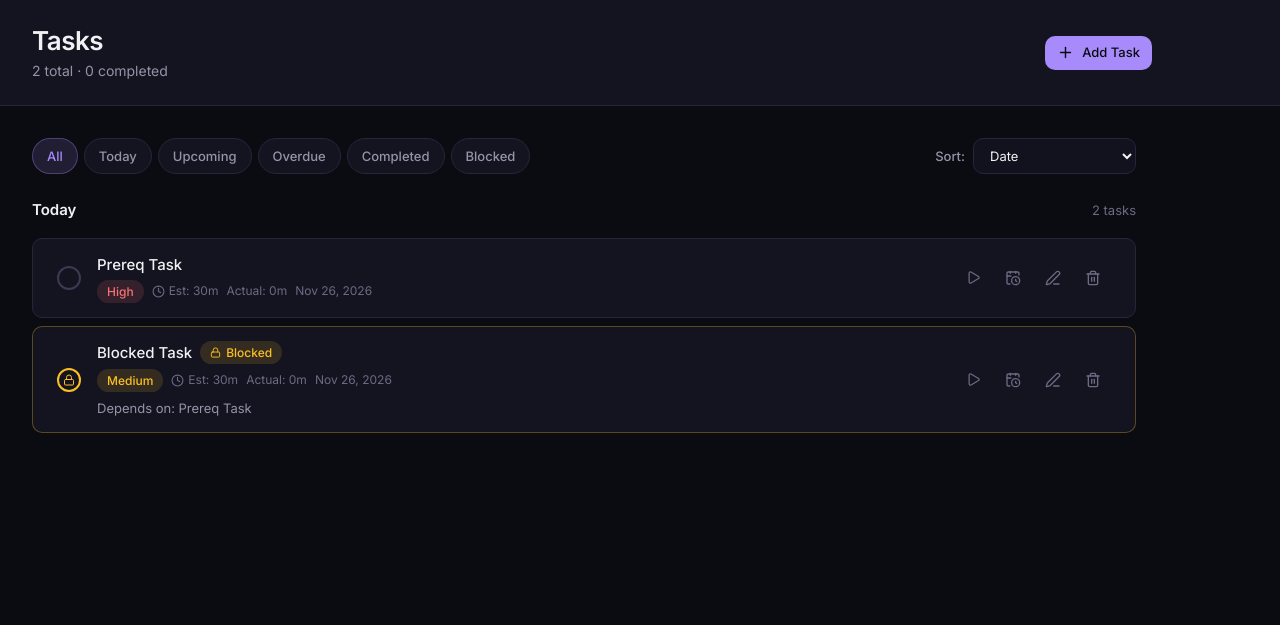
Test case: Stage 2 UI Integration › 36-37. Tasks page supports timer controls and enforces dependency blocking
The width and height of the screenshot is (1280, 625).
expect the text "Blocked" is shown: met, box [200, 341, 282, 364]
// Start timer on Prereq Task
Click the button named "Start timer for Prereq Task".
click(973, 278)  # box [955, 260, 991, 296]
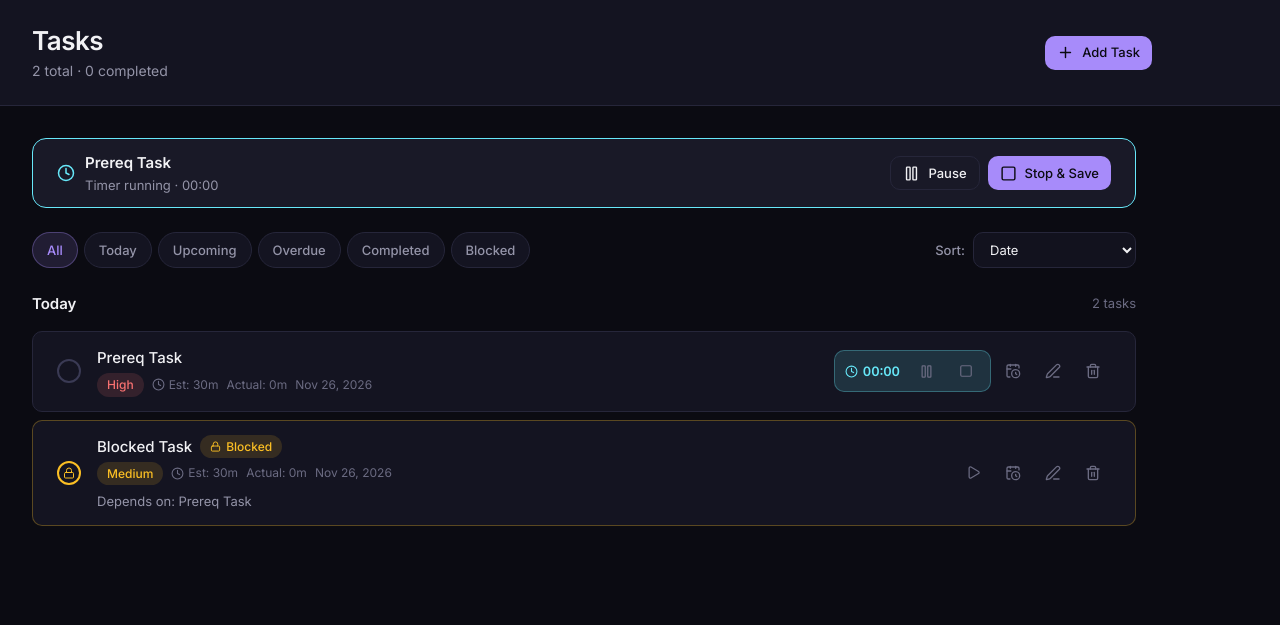
expect the element named "Active task timer" is shown: met, box [32, 138, 1136, 208]
// Trying to complete Blocked Task shows error
Click the button named "Blocked task: Blocked Task".
click(69, 473)  # box [57, 461, 81, 485]
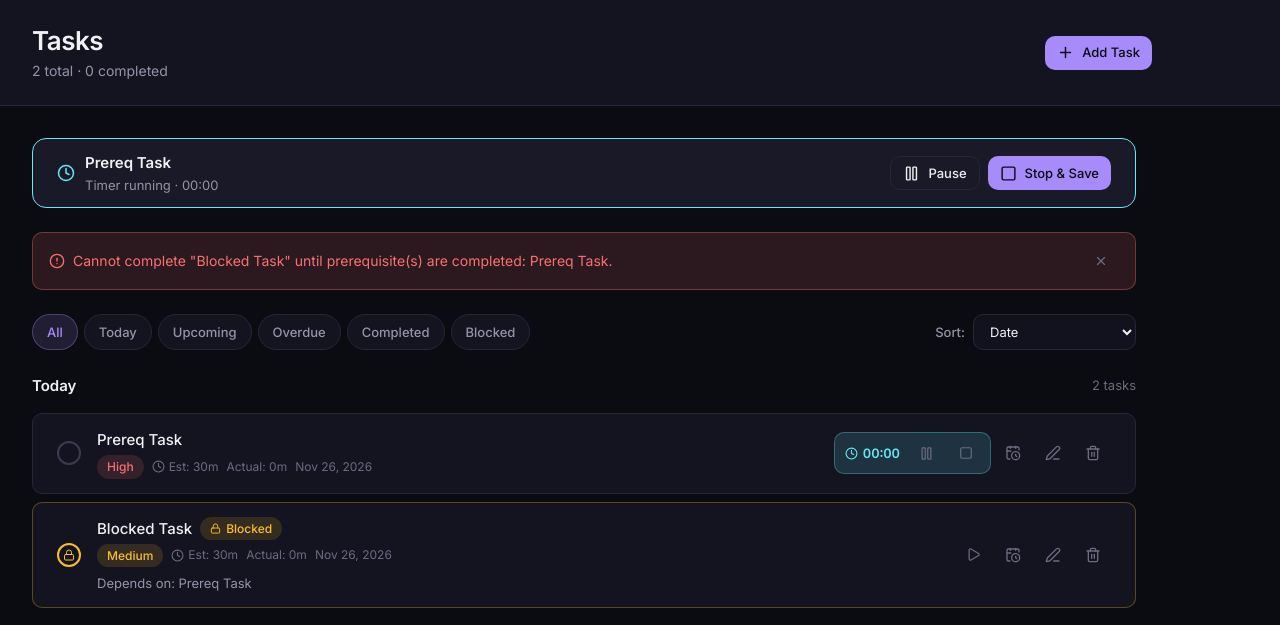
expect the message shows "Cannot complete": met, box [73, 252, 612, 269]
